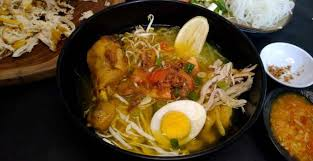soto: (69, 9, 260, 161)
